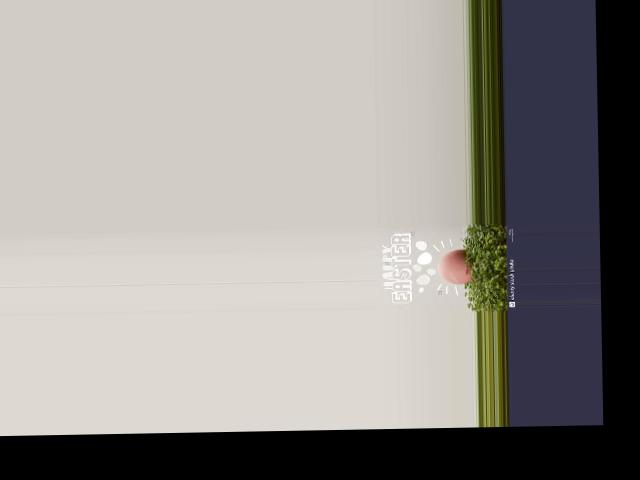egg: (438, 247, 472, 283)
